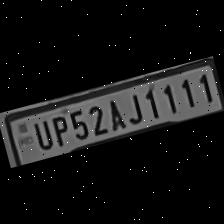1: (156, 79, 182, 117), (139, 84, 164, 121), (173, 76, 198, 112), (192, 70, 216, 105)
2: (83, 101, 110, 138)
5: (64, 106, 90, 143)
A: (102, 94, 128, 132)
J: (119, 88, 146, 127)
P: (46, 112, 72, 149)
U: (27, 116, 54, 153)
